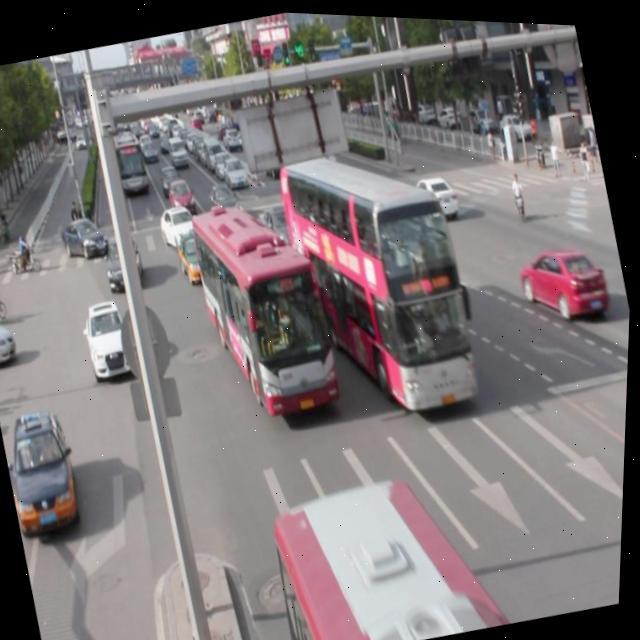car: (0, 403, 92, 535), (513, 228, 615, 327), (80, 293, 143, 382), (100, 226, 150, 291), (409, 164, 461, 219), (175, 221, 220, 282), (156, 196, 205, 251)
van: (270, 126, 489, 425), (266, 450, 513, 640), (185, 185, 349, 423)
